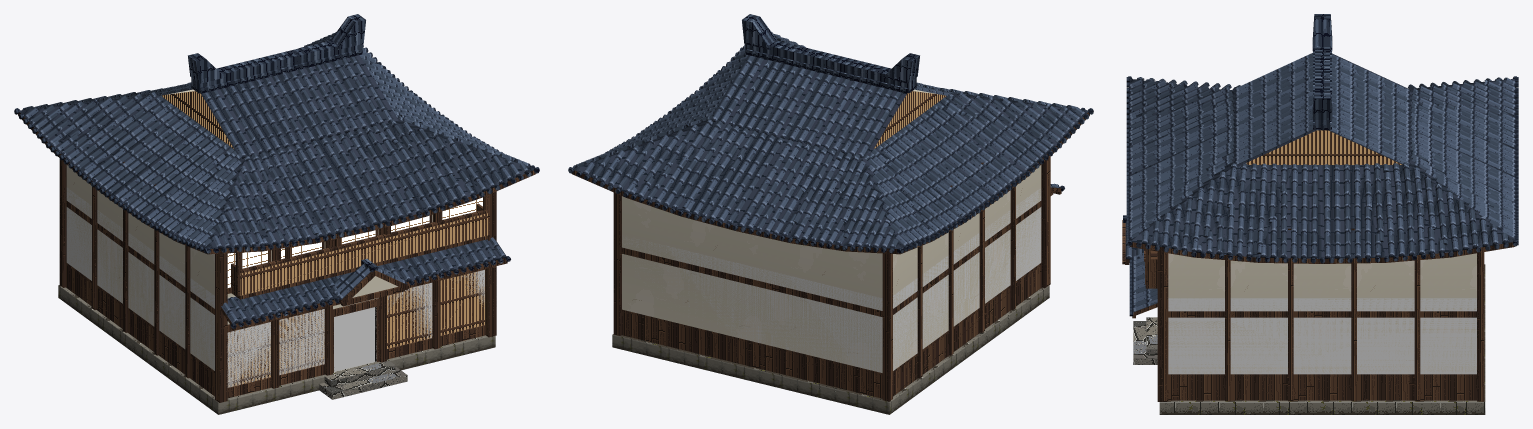
The model's file is JP_Rich_Residence_A.glb.
The picture shows the model from 3 angles, left to right: view 1: azimuth 30°, elevation 25°; view 2: azimuth 150°, elevation 25°; view 3: azimuth 270°, elevation 25°; orthographic projection.
Visible parts, largest first — view 1: JP_Rich_Residence_A, COL_JP_Rich_Residence_A; view 2: JP_Rich_Residence_A, COL_JP_Rich_Residence_A; view 3: JP_Rich_Residence_A, COL_JP_Rich_Residence_A.
Boxes of the visible parts, x1,y1,x2,y2 form: JP_Rich_Residence_A: (14, 14, 539, 414); COL_JP_Rich_Residence_A: (66, 187, 484, 387); JP_Rich_Residence_A: (568, 14, 1093, 414); COL_JP_Rich_Residence_A: (622, 189, 1041, 372); JP_Rich_Residence_A: (1122, 14, 1518, 414); COL_JP_Rich_Residence_A: (1168, 298, 1476, 374).
Bounding box in the file's own units: 12.4 × 10.12 × 12.53.
Materials: 10 (10 with a texture image).
